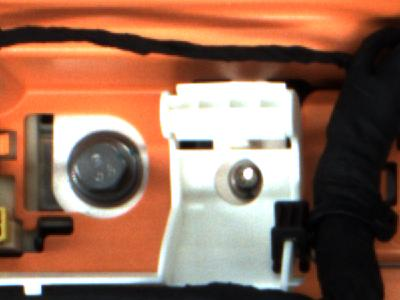nut_b: (65, 132, 148, 211)
